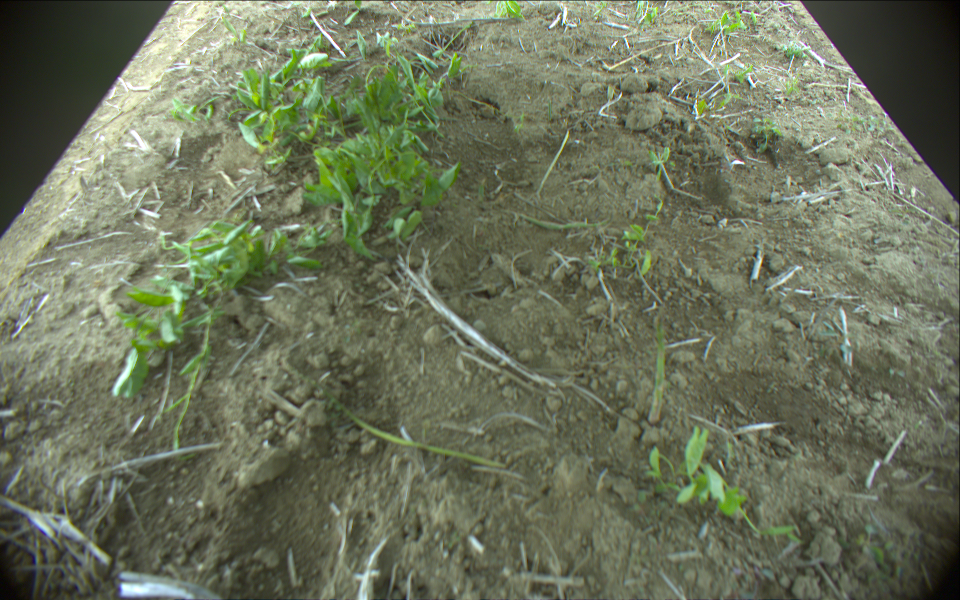aspa: (641, 313, 670, 422)
